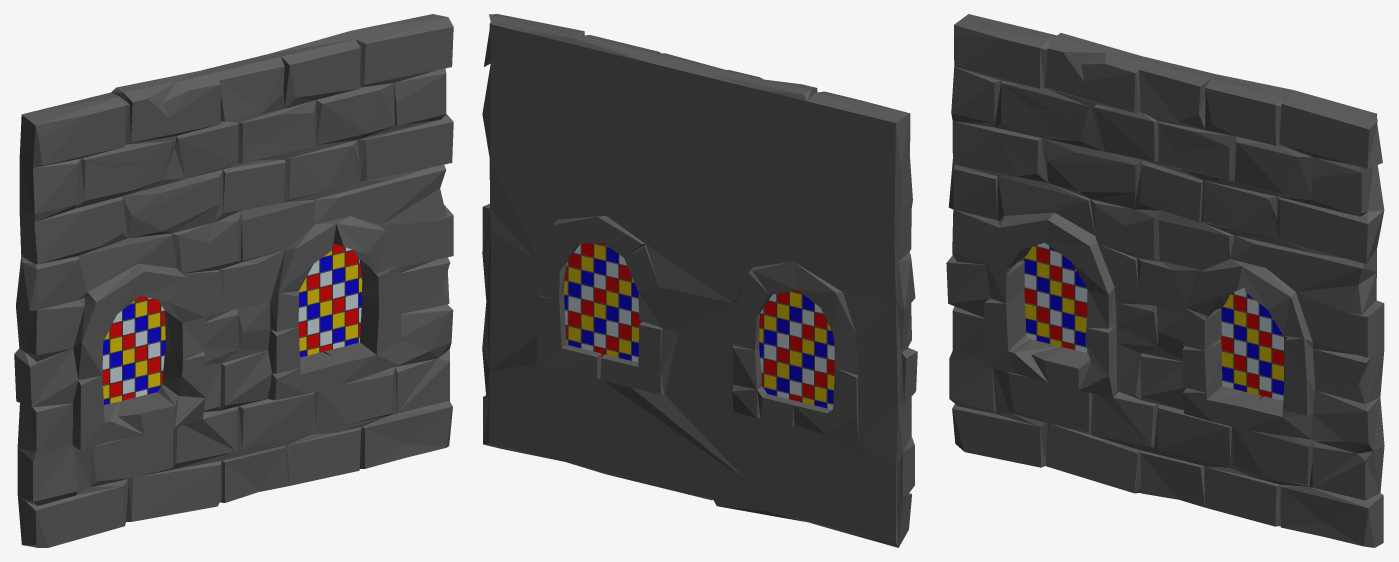
Rendered from Raam klein.fbx.
The picture shows the model from 3 angles, left to right: view 1: azimuth 30°, elevation 25°; view 2: azimuth 150°, elevation 25°; view 3: azimuth 330°, elevation 25°; orthographic projection.
Visible parts, largest first — view 1: SM_Env_Wall_Window_01, Cube.002, Cube.001, Cylinder.002, Cylinder.004, Cylinder.005, Cylinder.003; view 2: SM_Env_Wall_Window_01, Cube.002, Cube.001, Cylinder.004, Cylinder.002, Cylinder.005, Cylinder.003; view 3: SM_Env_Wall_Window_01, Cube.002, Cube.001, Cylinder.004, Cylinder.002, Cylinder.005, Cylinder.003.
Part boxes in pixels (x1,y1,x2,y2): SM_Env_Wall_Window_01: (14,14,453,547); Cube.002: (298,244,362,357); Cube.001: (102,296,165,404); Cylinder.002: (109,297,161,403); Cylinder.004: (306,247,358,355); Cylinder.005: (298,249,362,351); Cylinder.003: (102,298,165,399); SM_Env_Wall_Window_01: (482,14,917,547); Cube.002: (564,242,642,362); Cube.001: (759,290,834,409); Cylinder.004: (567,243,631,360); Cylinder.002: (763,291,827,408); Cylinder.005: (564,243,638,357); Cylinder.003: (759,291,834,404); SM_Env_Wall_Window_01: (946,14,1384,547); Cube.002: (1218,287,1287,400); Cube.001: (1024,242,1088,352); Cylinder.004: (1220,292,1284,398); Cylinder.002: (1024,245,1088,353); Cylinder.005: (1221,293,1287,395); Cylinder.003: (1024,245,1087,347).
Bounding box in the file's own units: 260 × 253 × 26.13.
